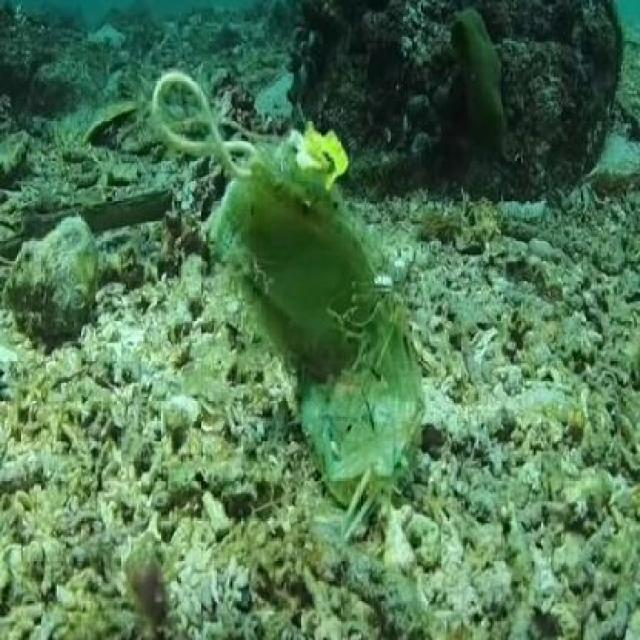Mask: (150, 71, 424, 552)
